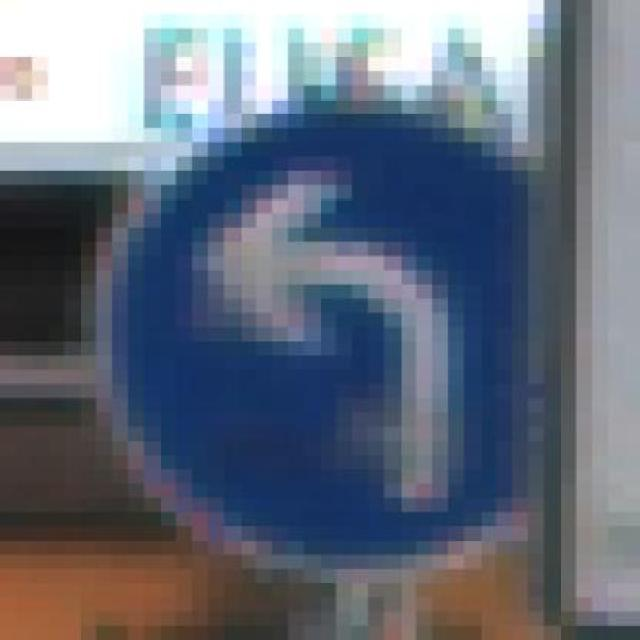Turn left ahead: (48, 56, 592, 598)
